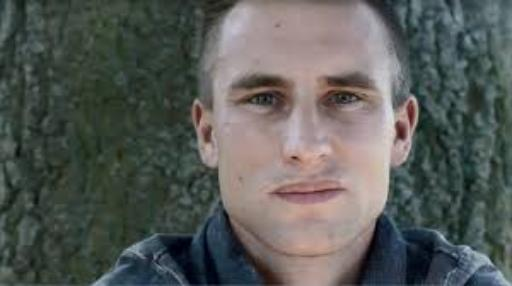left_eye: (324, 93, 366, 110)
left_lip_corner: (330, 185, 353, 197)
right_eye: (239, 93, 287, 112)
right_lip_corner: (259, 187, 290, 202)
